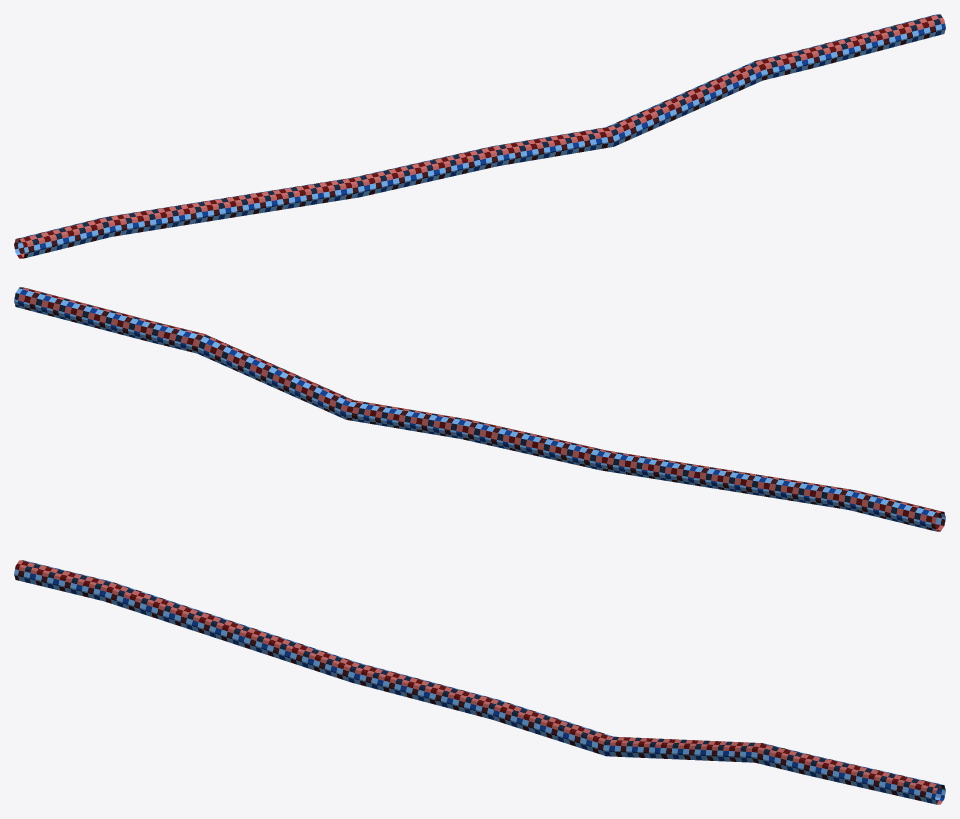
File: Wire_large_02.fbx
The picture shows the model from 3 angles, top to bottom: view 1: azimuth 30°, elevation 25°; view 2: azimuth 150°, elevation 25°; view 3: azimuth 330°, elevation 25°; orthographic projection.
Parts seen in each view (by area): view 1: wire_large_02; view 2: wire_large_02; view 3: wire_large_02.
Part boxes in pixels (bbox=[...]): wire_large_02: bbox=[14, 14, 945, 258]; wire_large_02: bbox=[14, 287, 945, 531]; wire_large_02: bbox=[14, 560, 945, 804].
Size of the model in its own units: 500 by 27.1 by 10.27.
Materials: 1 (1 with a texture image).
